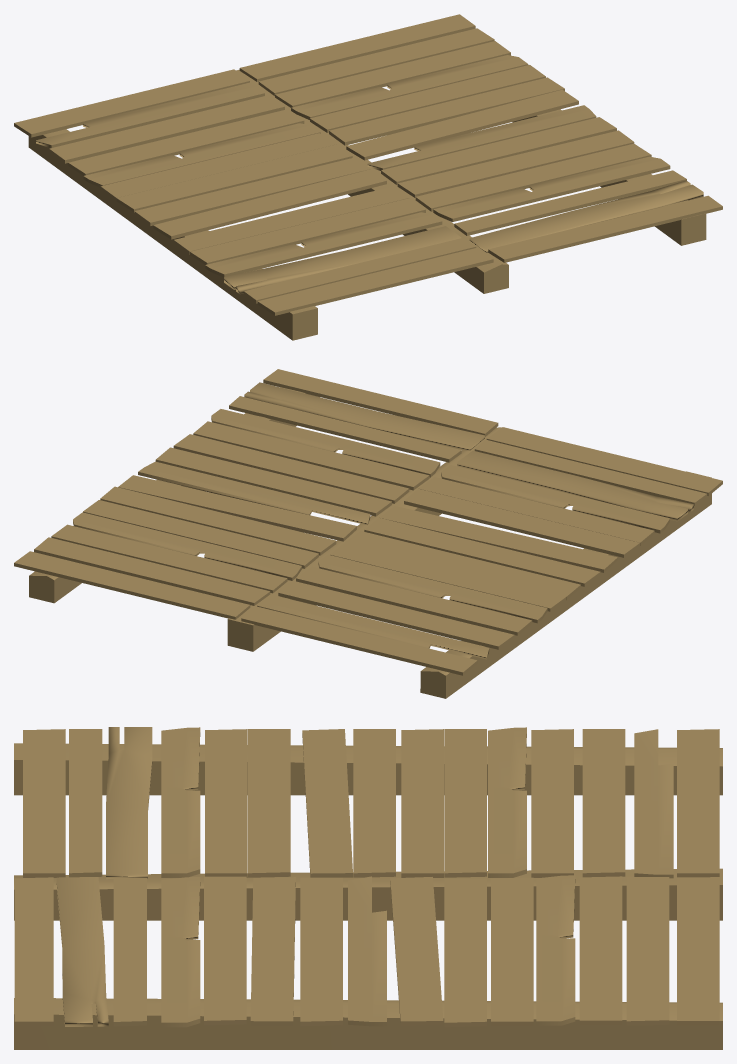
File: Road_Beam_Double_05.fbx
3 views of the same model, one above another, from view 1: azimuth 30°, elevation 25°; view 2: azimuth 150°, elevation 25°; view 3: azimuth 270°, elevation 25° (orthographic). The views are drawn at different scales.
Parts seen in each view (by area): view 1: Road_Beam_Double_05; view 2: Road_Beam_Double_05; view 3: Road_Beam_Double_05.
Boxes of the visible parts, x1,y1,x2,y2 form: Road_Beam_Double_05: (14,14,722,340); Road_Beam_Double_05: (14,369,722,698); Road_Beam_Double_05: (14,727,722,1049).
Size of the model in its own units: 296 by 18.81 by 300.
